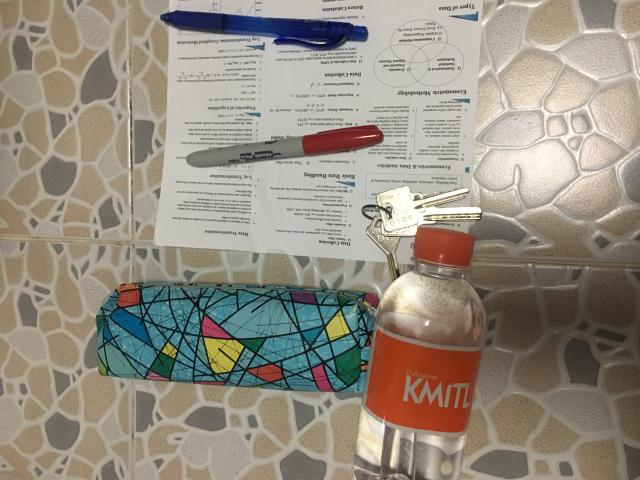Keys: (361, 186, 482, 286)
Pen: (186, 125, 384, 168), (160, 10, 368, 49)
bottle: (352, 226, 485, 479)
paper: (154, 0, 484, 268)
